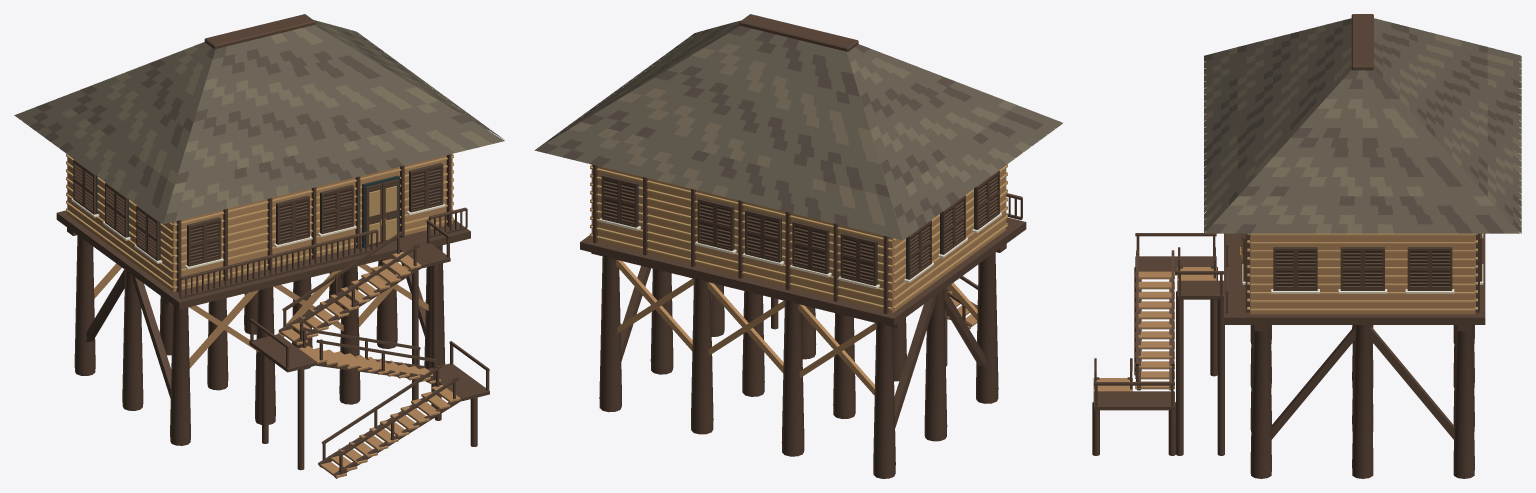
3 renders of one model, left to right at view 1: azimuth 30°, elevation 25°; view 2: azimuth 150°, elevation 25°; view 3: azimuth 270°, elevation 25°, orthographic. The views are drawn at different scales.
Parts seen in each view (by area): view 1: Belian shingle roof, Ironwood trestles, Upper dwelling, Access stair, Louvred shutters, Verandah balustrades, Entrance joinery; view 2: Belian shingle roof, Ironwood trestles, Upper dwelling, Louvred shutters, Access stair; view 3: Belian shingle roof, Upper dwelling, Access stair, Ironwood trestles, Louvred shutters.
Boxes of the visible parts, <box> form: Belian shingle roof: <box>14,14,504,224</box>; Ironwood trestles: <box>67,227,445,445</box>; Upper dwelling: <box>56,153,470,309</box>; Access stair: <box>249,220,489,478</box>; Louvred shutters: <box>71,159,445,269</box>; Verandah balustrades: <box>179,207,467,298</box>; Entrance joinery: <box>362,175,399,247</box>; Belian shingle roof: <box>534,14,1062,240</box>; Ironwood trestles: <box>591,244,1006,478</box>; Upper dwelling: <box>580,164,1026,325</box>; Louvred shutters: <box>599,170,1001,288</box>; Access stair: <box>771,264,978,366</box>; Belian shingle roof: <box>1204,14,1521,233</box>; Upper dwelling: <box>1224,233,1485,324</box>; Access stair: <box>1092,233,1224,455</box>; Ironwood trestles: <box>1250,325,1474,478</box>; Louvred shutters: <box>1242,233,1483,293</box>.
Bounding box in the file's own units: 14.61 × 14.1 × 14.88.
